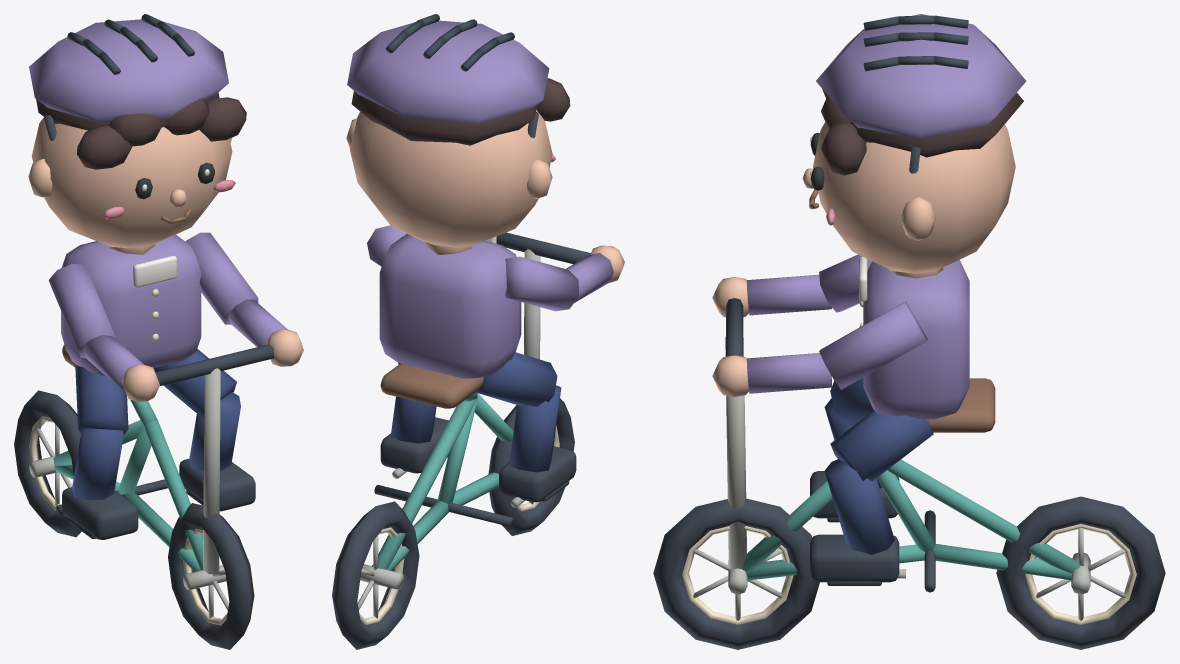
The model's file is person-cyclist.glb.
3 renders of one model, left to right at view 1: azimuth 30°, elevation 25°; view 2: azimuth 150°, elevation 25°; view 3: azimuth 270°, elevation 25°, orthographic. The views are drawn at different scales.
Parts seen in each view (by area): view 1: jacket; view 2: jacket; view 3: jacket.
Boxes of the visible parts, box(x1,y1,x2,y2) form: jacket: box(14, 14, 303, 649); jacket: box(332, 14, 624, 649); jacket: box(653, 14, 1165, 649).
Size of the model in its own units: 0.6485 by 1.71 by 1.28.
1 material, 1 textured.
